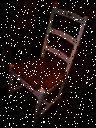Silla: (0, 0, 92, 127)
